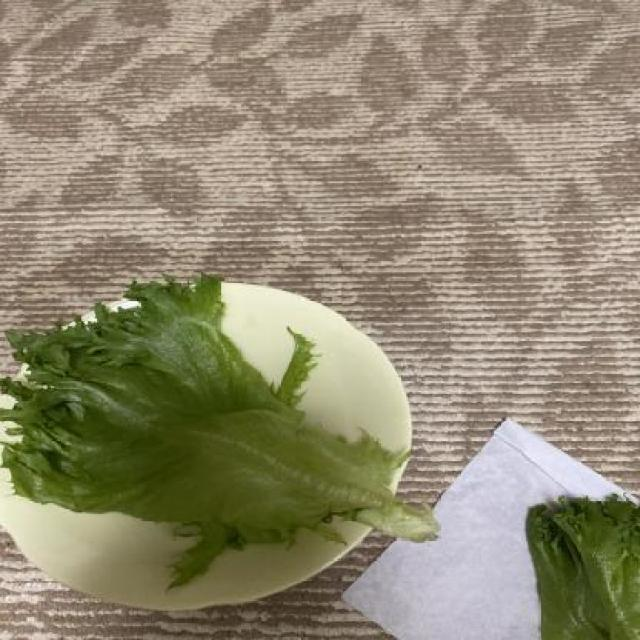Lettuce head: (5, 263, 439, 596)
